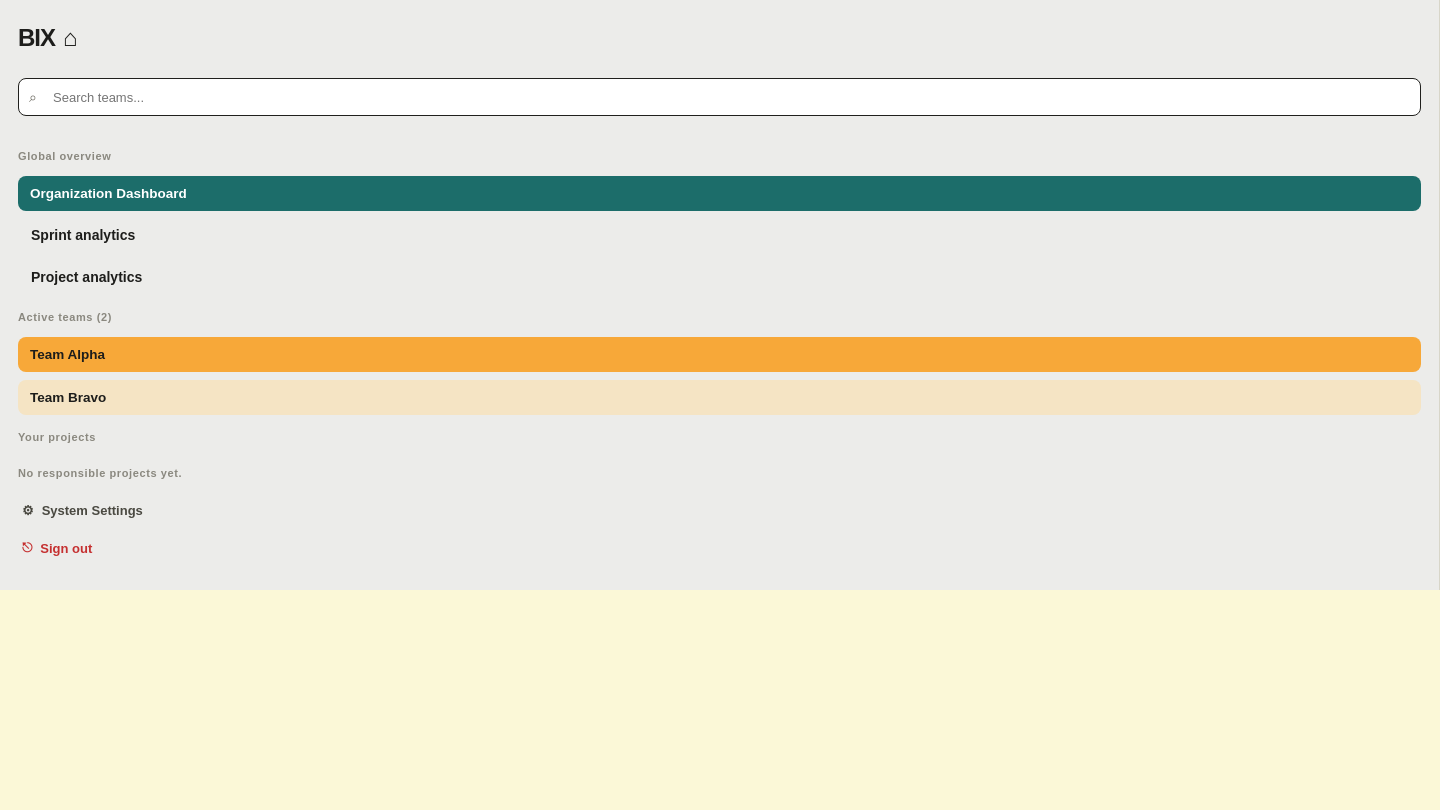
Test: AdminSidebar - team list (real data) › filters the team list by the search box
This screenshot has width=1440, height=810.
Expected: the link "Team Alpha" is shown, top-left (18, 337), bottom-right (1421, 372)
Type "bravo" into the field labelled "Search teams".
click(720, 97); type("bravo")  # box top-left (18, 78), bottom-right (1421, 116)
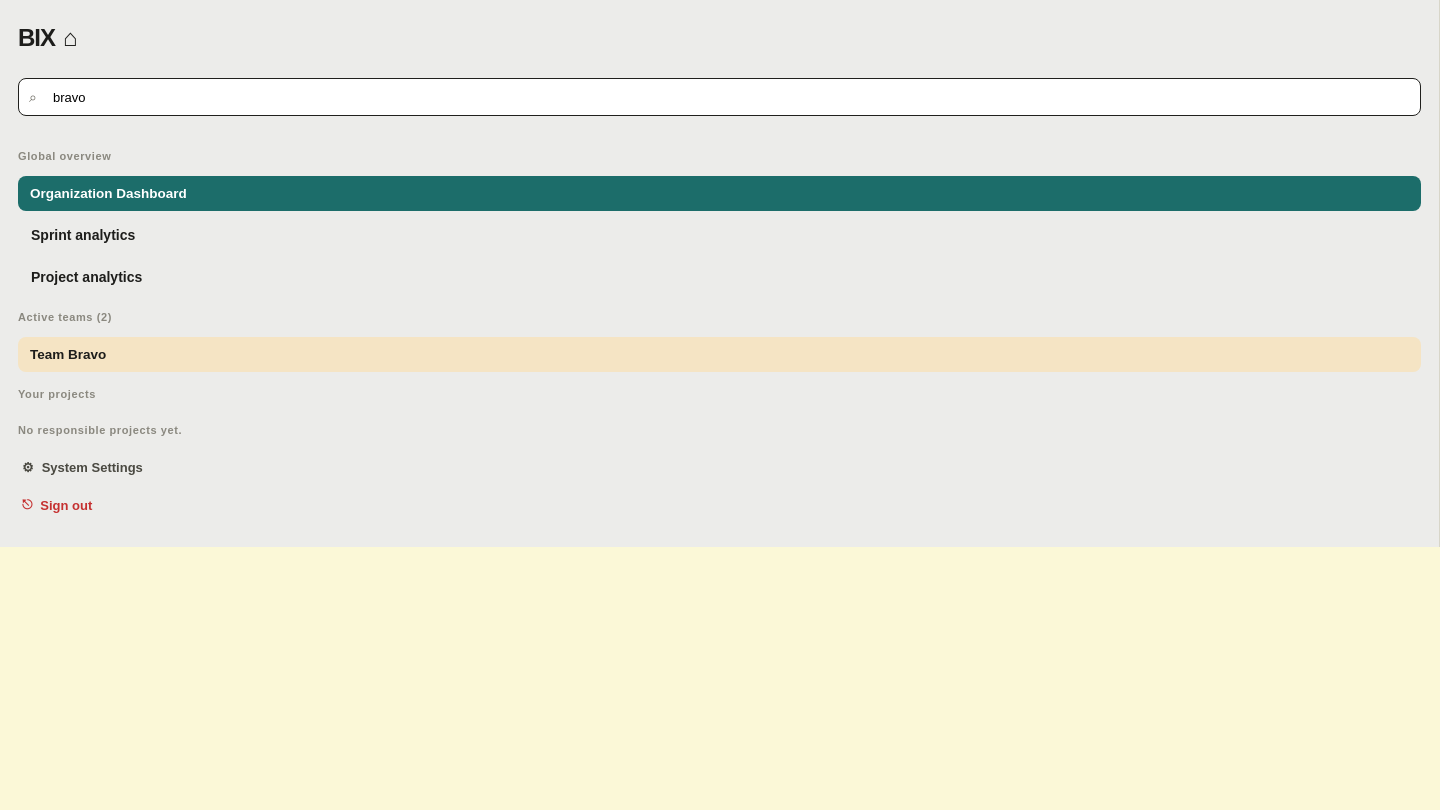
Expected: the link "Team Bravo" is shown, top-left (18, 337), bottom-right (1421, 372)
Now the link "Team Alpha" is gone
